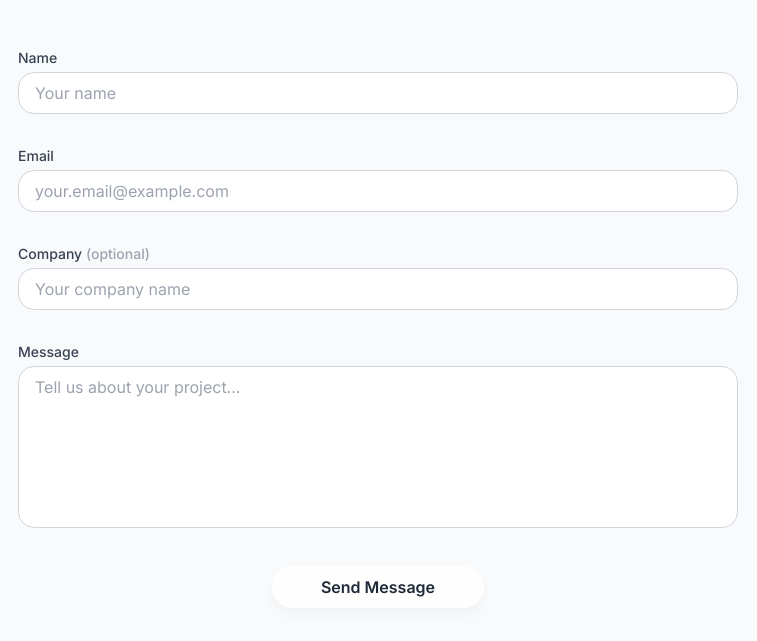
Test: User Journey Tests › 2. Contact Form Validation › should display error message on submission failure
Type "John Doe" into the field labelled "Name" at (378, 93), box left=18, top=72, right=738, bottom=114
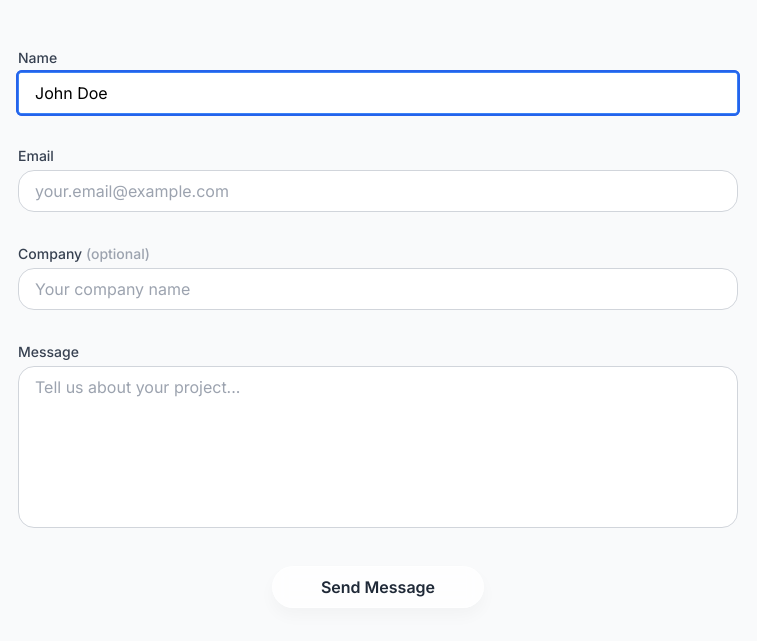
Type "john@example.com" into the field labelled "Email" at (378, 191), box left=18, top=170, right=738, bottom=212
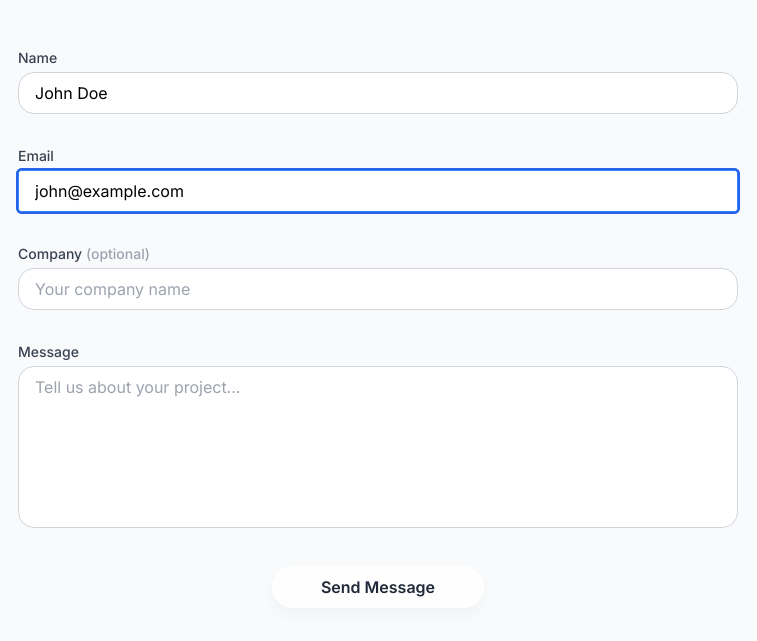
Type "This is a valid test message" into the text box labelled "Message" at (378, 447), box left=18, top=366, right=738, bottom=528
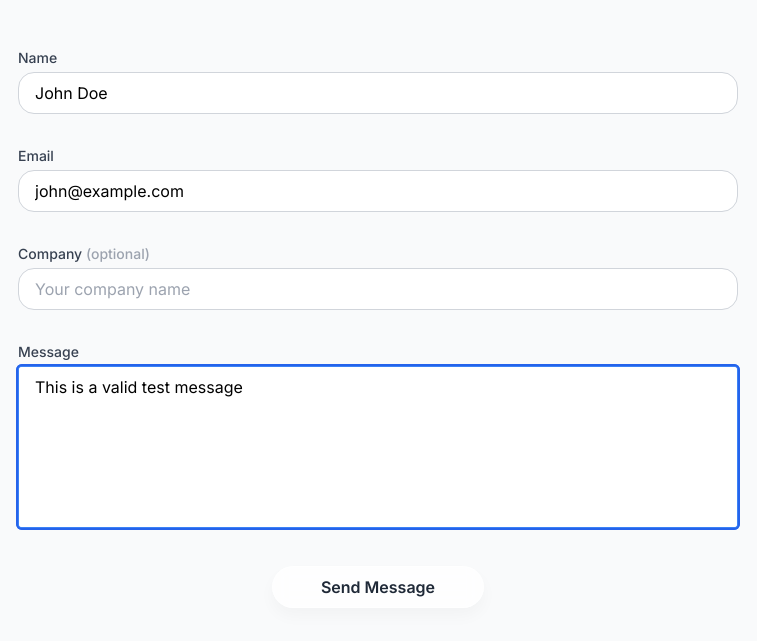
Click the button "Send Message" at (378, 587), box left=272, top=566, right=484, bottom=608
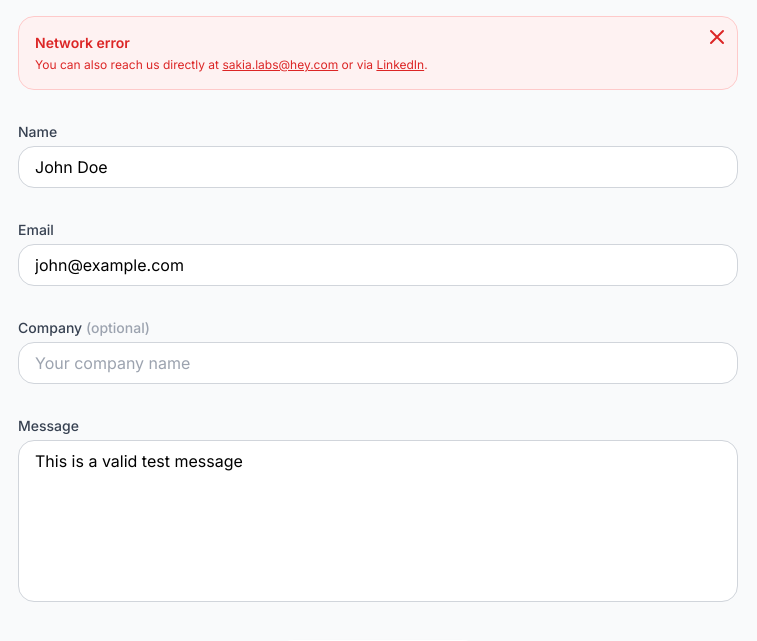
Check: the text "Network error" is shown, box left=35, top=34, right=130, bottom=51
Check: the text "You can also reach us directly at" is shown, box left=35, top=57, right=219, bottom=72
